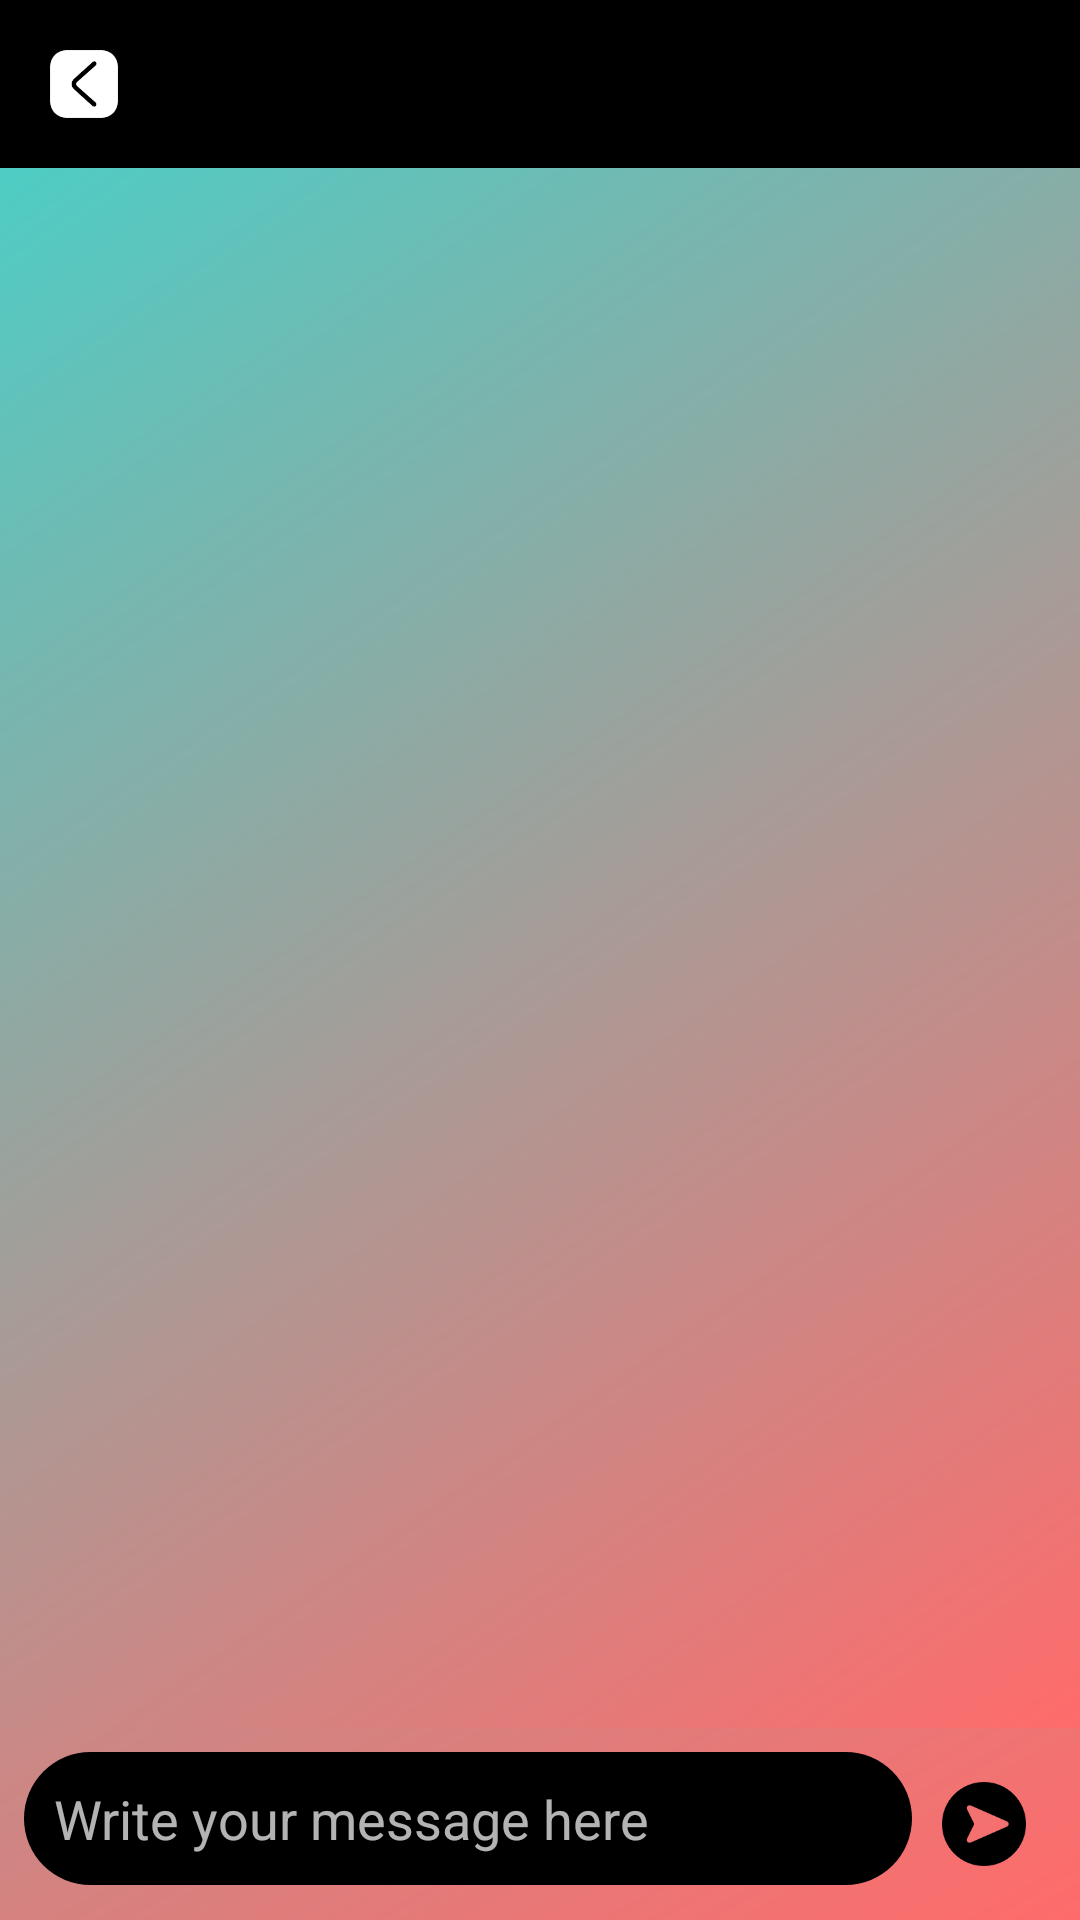

Named icons in this screenshot (1080 × 1920) and their bounding boxes, (x1, y1, x2, y2):
back: (50, 50, 118, 118)
Send: (942, 1782, 1026, 1866)
